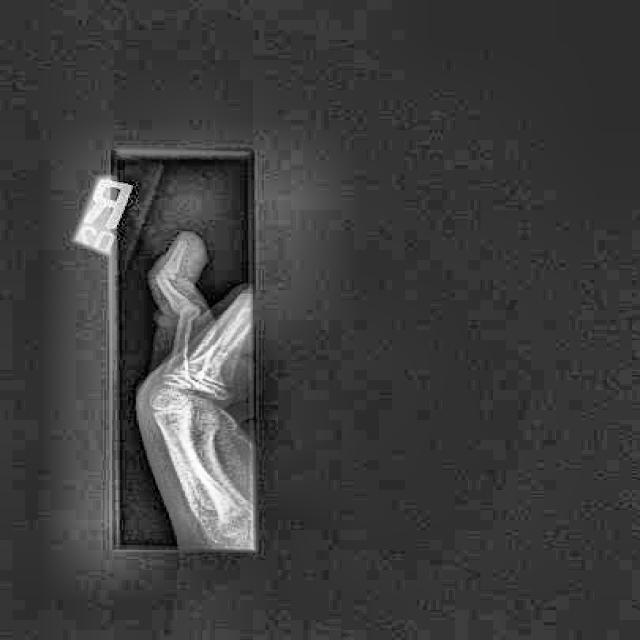fingers positive: (149, 259, 185, 292)
